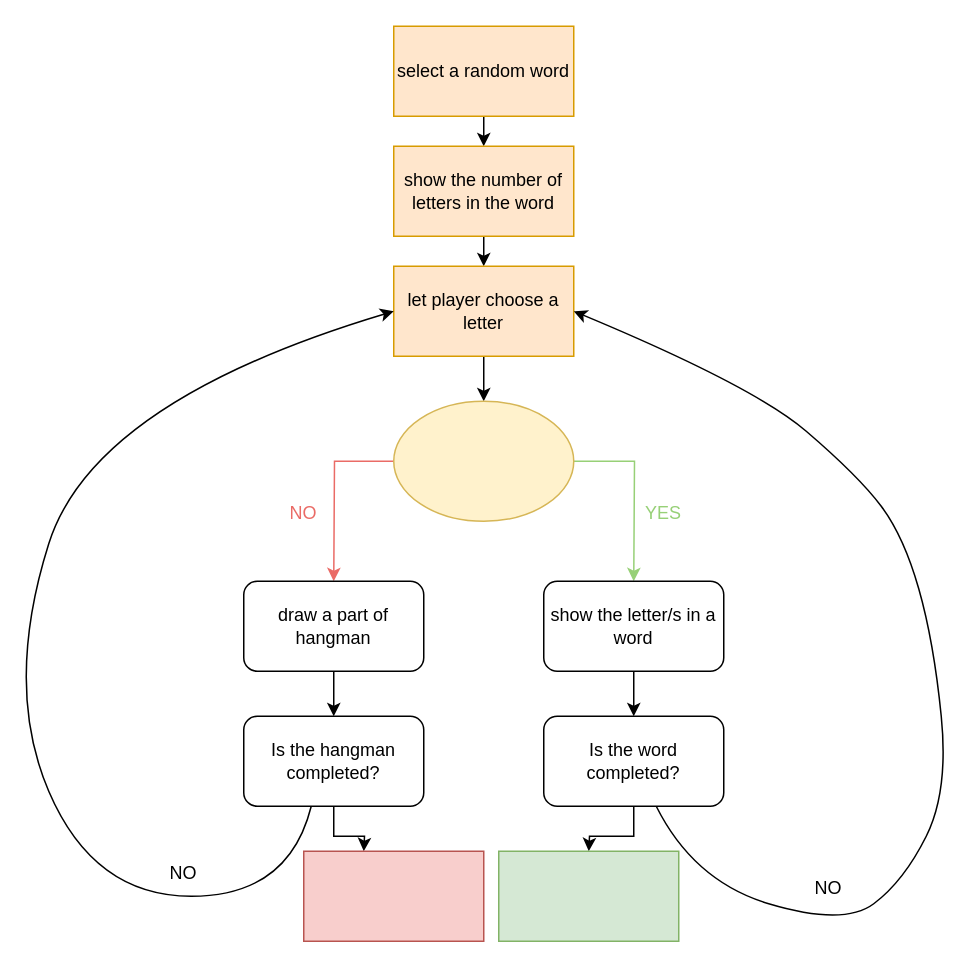
Some shapes in this 971 by 968 pixel diagram are drawn without their labels. The shapes that lost their labels are listed below. From the top down, each one's centre as x and y in pixels, then its label:
At point (483, 460): "Is it letter correct?".
At point (393, 895): "You loose".
At point (588, 895): "You win".
